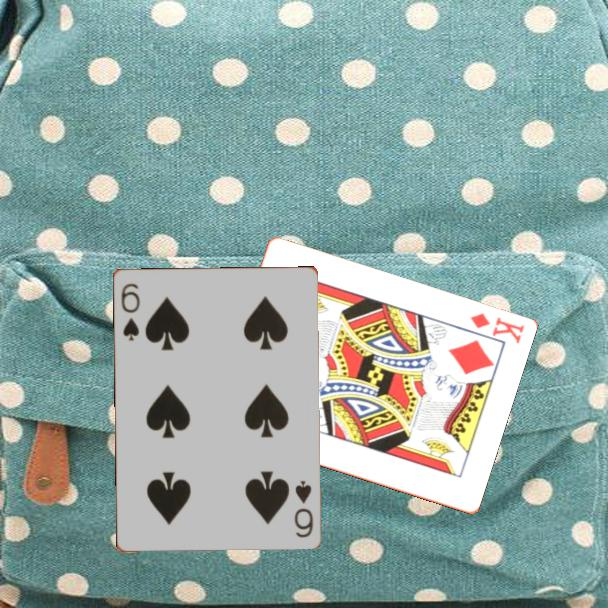d13: (466, 309, 527, 347)
s06: (117, 279, 142, 343), (291, 477, 316, 540)
